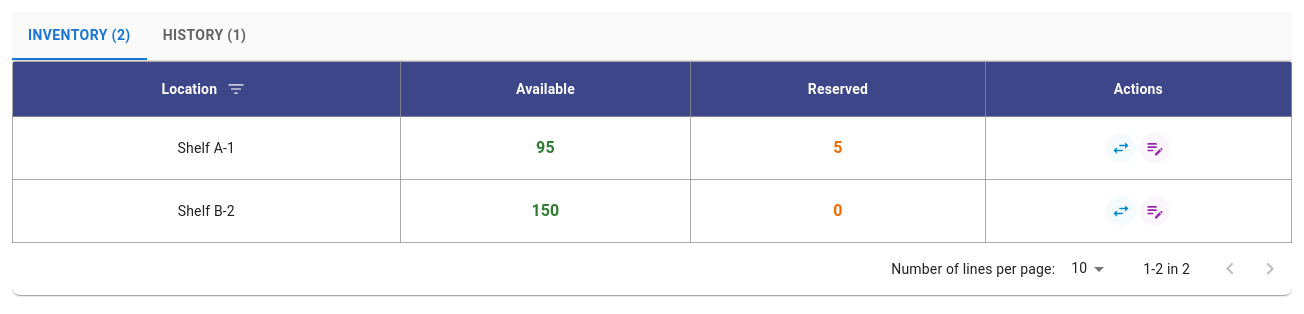
Test: BatchTabsSection - Comprehensive Tests › Edge Cases › handles missing location code
Click the tab "History (1)" at [205, 36], box [147, 12, 262, 60]
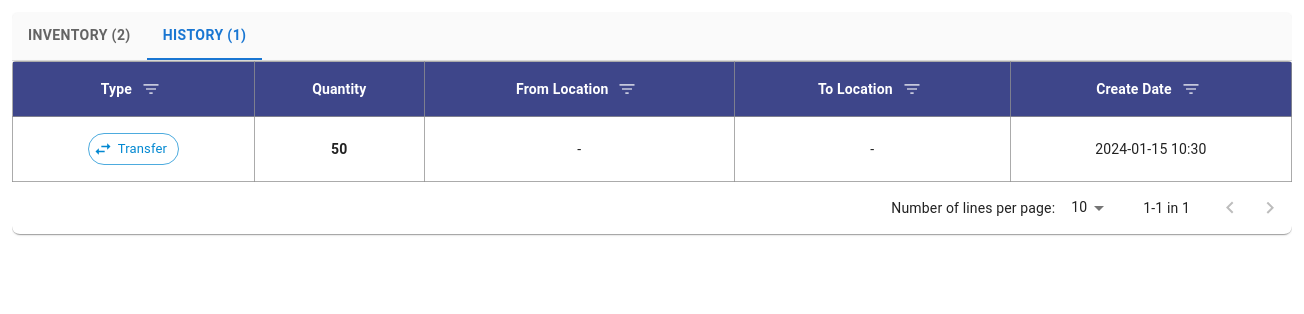
Expected: the 1st text "-" is shown, [424, 116, 734, 182]
